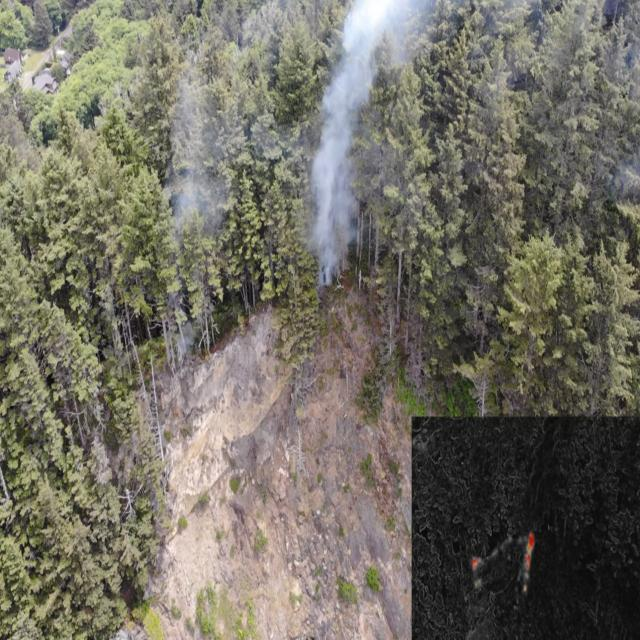Smoke: (304, 0, 436, 301), (158, 28, 240, 264)
